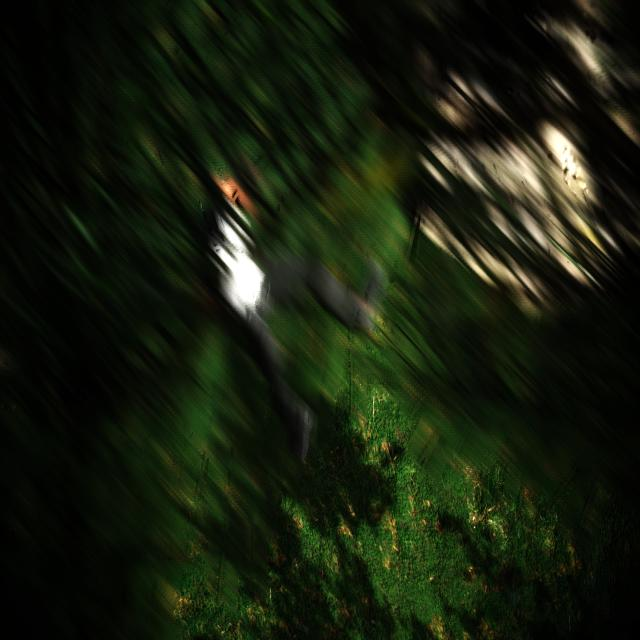Human: (197, 141, 386, 490)
